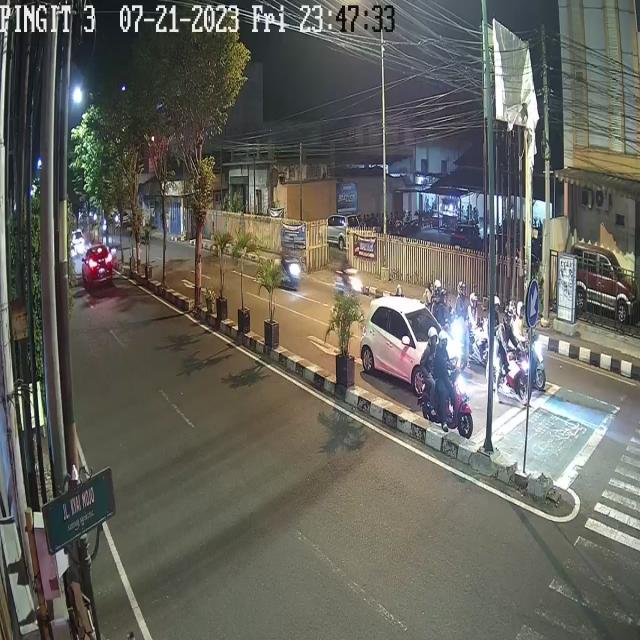car: (358, 292, 449, 407), (83, 244, 116, 290)
motorcycle: (420, 328, 472, 434), (488, 302, 525, 405), (505, 294, 545, 389), (451, 280, 487, 361), (333, 250, 360, 312), (280, 233, 300, 290)
